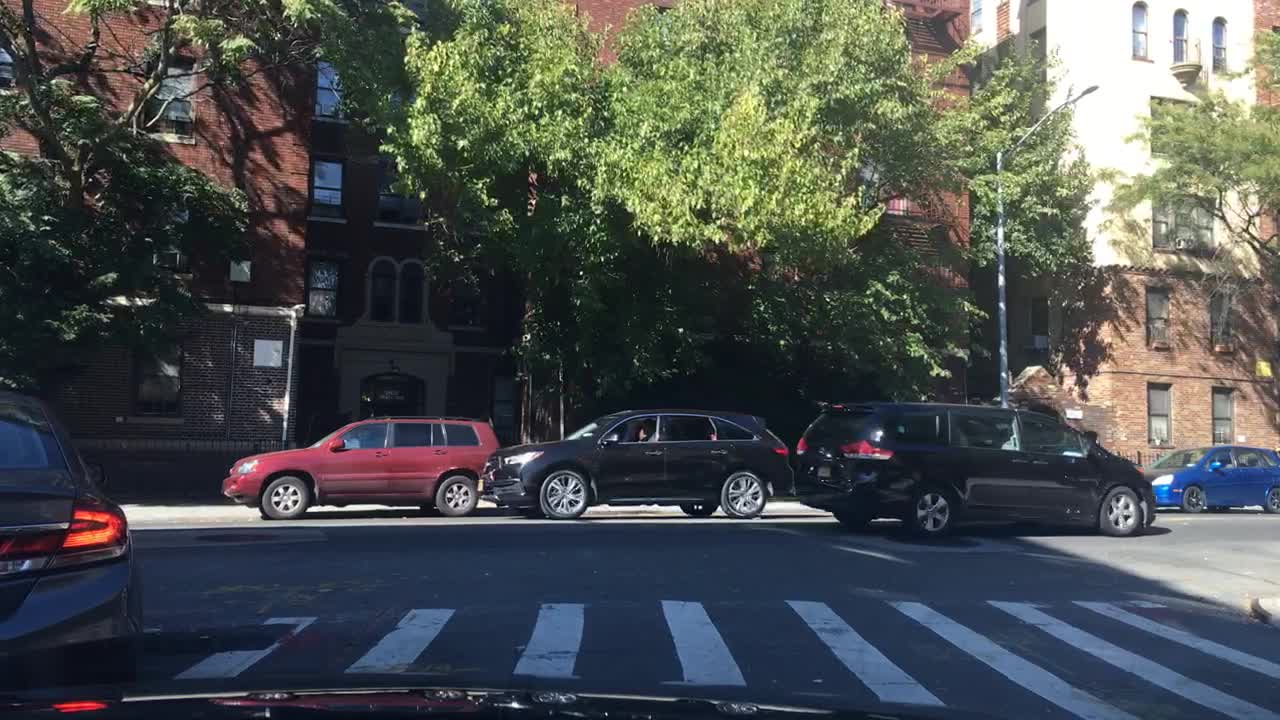car: (794, 400, 1155, 537), (0, 388, 142, 689), (483, 401, 794, 518), (215, 417, 497, 521), (1146, 443, 1279, 512)
